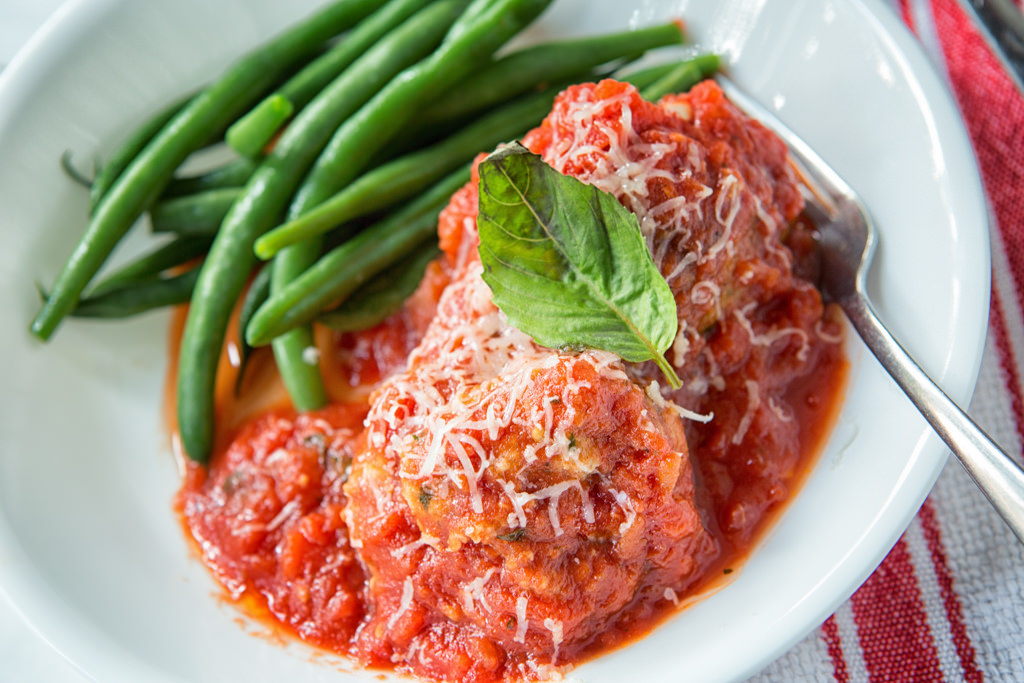meatballs: (369, 333, 701, 642), (516, 82, 839, 361)
